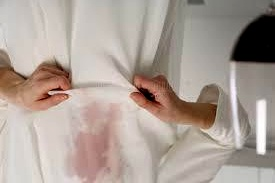wine: (67, 105, 127, 177)
